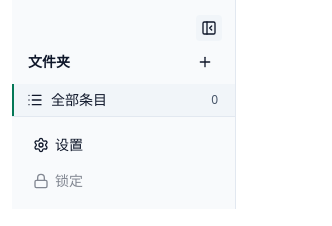
Scenario: 侧栏装配的折叠过渡 › 点击切换按钮后 data-state 与无障碍名称随之变化
Click the button named "收起侧栏". click: (209,28)
box: [195,14,223,42]
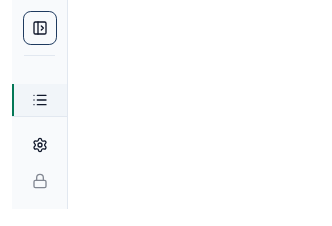
Expected: the button named "展开侧栏" is shown, [26,14,54,42]
